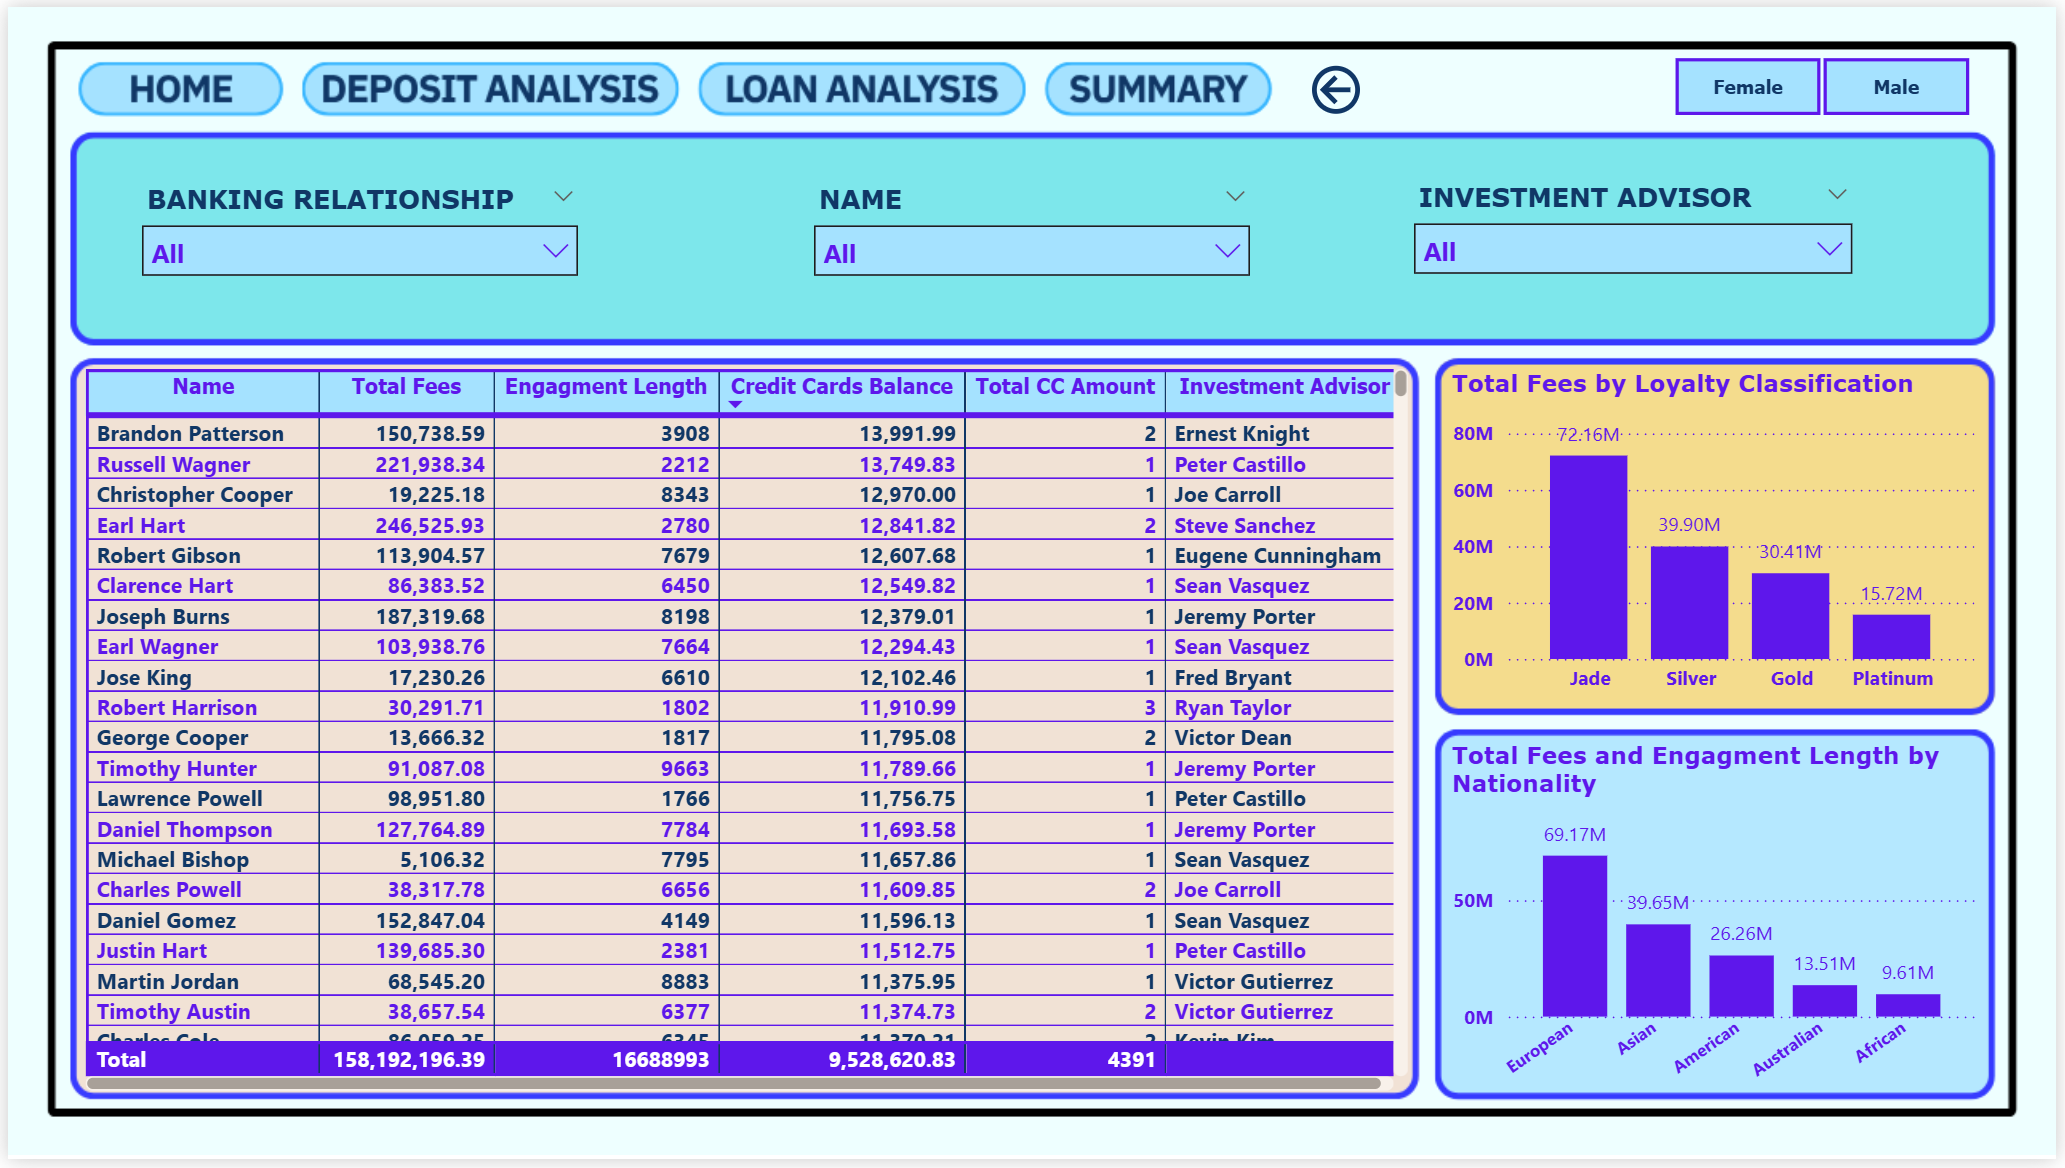

The dashboard page shown, as its layout file describes it:
{"tool":"powerbi","page":{"name":"Drill Through","canvas":[1280,720],"ordinal":4},"visuals":[{"type":"slicer","fields":{"Values":["Banking Relationship.Banking Relationship"]},"box":[73.8,105,292.5,76.2],"z":0},{"type":"slicer","fields":{"Values":["Investment Advisor.Investment Advisor"]},"box":[868.8,103.8,293.8,76.2],"z":1000},{"type":"tableEx","fields":{"Values":["bank_analysis customer.Name"," Measures.Total Fees"," Measures.Engagment Length"," Measures.Credit Cards Balance"," Measures.Total CC Amount","Investment Advisor.Investment Advisor"]},"box":[43.1,220.8,837.7,460.8],"z":2000},{"type":"actionButton","box":[810,28.8,40,46.2],"z":3000},{"type":"clusteredColumnChart","fields":{"Category":["bank_analysis customer.Loyalty Classification"],"Y":[" Measures.Total Fees"]},"box":[897.5,226.2,336.2,211.2],"z":4000},{"type":"columnChart","fields":{"Y":[" Measures.Total Fees"],"Category":["bank_analysis customer.Nationality"]},"box":[897.5,458.8,337.5,221.2],"z":5000},{"type":"slicer","fields":{"Values":["bank_analysis customer.Gender"]},"box":[1016.1,25.5,233.3,49.7],"z":6000},{"type":"slicer","fields":{"Values":["bank_analysis customer.Name"]},"box":[493.8,105,292.5,75],"z":7000},{"type":"actionButton","box":[649.1,34.5,140,32.7],"z":8000},{"type":"actionButton","box":[43.8,36.2,126.2,32.5],"z":9000},{"type":"actionButton","box":[434.4,36.7,201.1,32.2],"z":10000},{"type":"actionButton","box":[185.6,36.9,233.1,30.6],"z":11000}]}

Visuals, with their boxes in screenshot pixels (x1, y1, x2, y2), scaled from the page's 1280x720 canvas onto the 2065x1168 screenshot:
slicer - Banking Relationship.Banking Relationship: 119:170:591:294
slicer - Investment Advisor.Investment Advisor: 1402:168:1876:292
tableEx - bank_analysis customer.Name x  Measures.Total Fees: 70:358:1421:1106
actionButton: 1307:47:1371:122
clusteredColumnChart - bank_analysis customer.Loyalty Classification x  Measures.Total Fees: 1448:367:1990:710
columnChart -  Measures.Total Fees x bank_analysis customer.Nationality: 1448:744:1992:1103
slicer - bank_analysis customer.Gender: 1639:41:2016:122
slicer - bank_analysis customer.Name: 797:170:1269:292
actionButton: 1047:56:1273:109
actionButton: 71:59:274:111
actionButton: 701:60:1025:112
actionButton: 299:60:675:110
